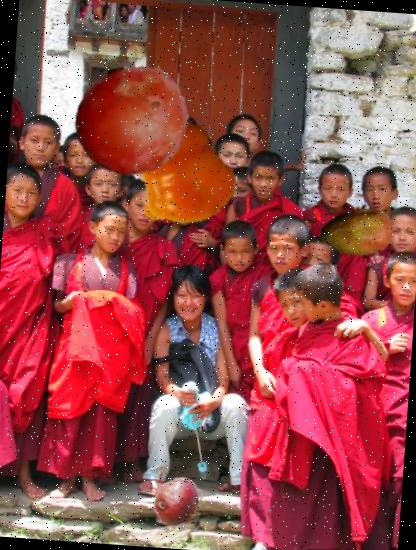Grape: (70, 59, 192, 182)
Onion: (144, 469, 204, 529)
Papaya: (316, 190, 397, 272)
Pepper: (128, 118, 240, 229)
